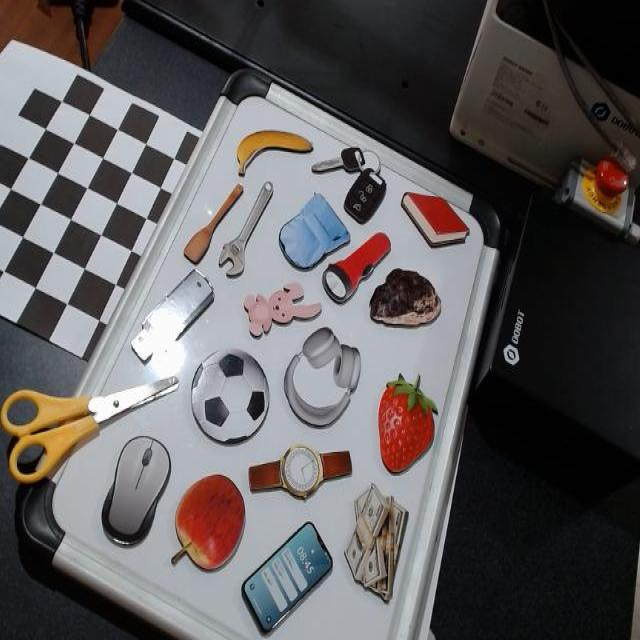Other Objects: (0, 375, 179, 484), (272, 326, 372, 434), (240, 520, 333, 635), (104, 434, 172, 554), (343, 481, 408, 603), (190, 347, 270, 444), (170, 473, 245, 571), (318, 221, 394, 308), (279, 183, 351, 271), (310, 147, 394, 222), (247, 441, 352, 500), (218, 180, 273, 276), (183, 181, 243, 264), (369, 266, 441, 326), (235, 129, 313, 176)
